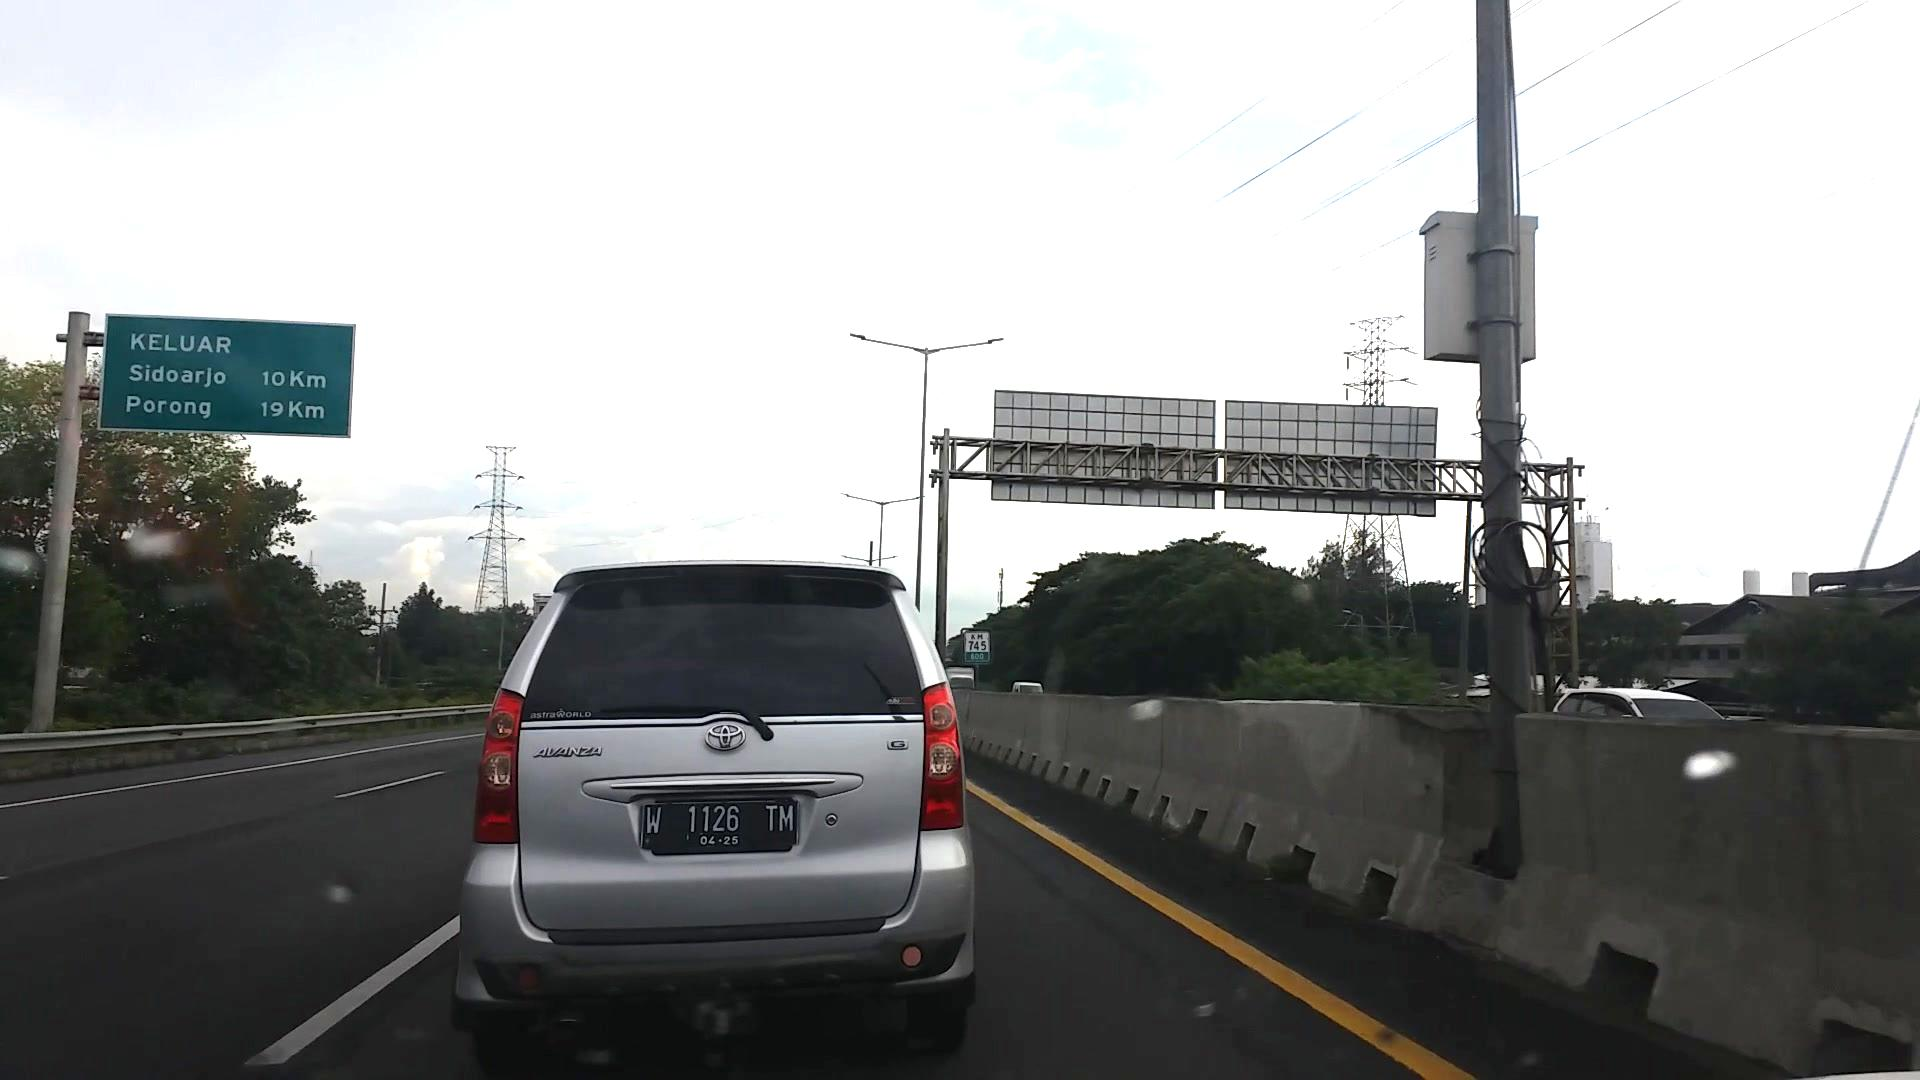plate_positive: (640, 802, 796, 847)
